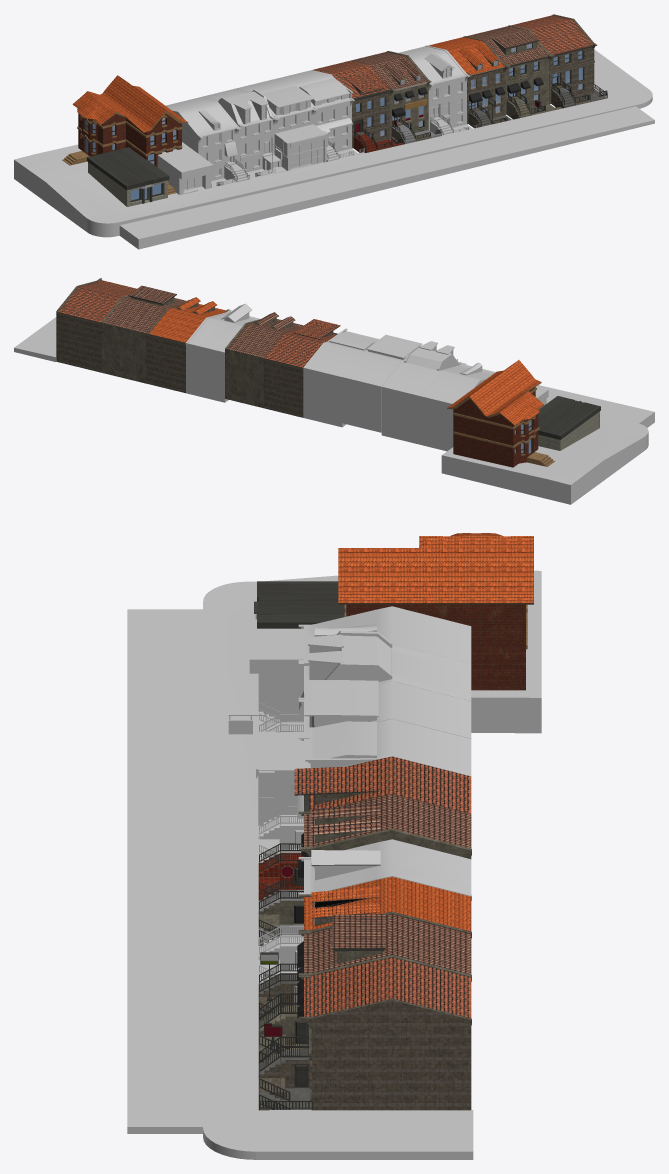
The model's file is Marcio_Augusta_James_Buildings.fbx.
3 renders of one model, top to bottom at view 1: azimuth 30°, elevation 25°; view 2: azimuth 150°, elevation 25°; view 3: azimuth 270°, elevation 25°, orthographic. The views are drawn at different scales.
Parts seen in each view (by area): view 1: SideWalk, VictorianHouse, Building07, Building06, Building08, Building09, Building03, Building02, Building10, Building05, Building04, Building01 (+2 smaller); view 2: SideWalk, VictorianHouse, Building06, Building09, Building07, Building02, Building08, Building01, Building03, Building05, Building04, Building10 (+1 smaller); view 3: SideWalk, Building07, VictorianHouse, Building08, Building06, Building03, Building01, Building02, Building05, Building04, Building09, Building10 (+2 smaller).
Part boxes in pixels (bbox=[...]): SideWalk: bbox=[14, 50, 654, 249]; VictorianHouse: bbox=[62, 75, 188, 194]; Building07: bbox=[511, 14, 607, 108]; Building06: bbox=[467, 25, 562, 119]; Building08: bbox=[235, 79, 328, 170]; Building09: bbox=[197, 88, 286, 179]; Building03: bbox=[351, 51, 441, 144]; Building02: bbox=[313, 60, 403, 152]; Building10: bbox=[166, 98, 248, 187]; Building05: bbox=[428, 36, 518, 127]; Building04: bbox=[398, 45, 479, 135]; Building01: bbox=[274, 70, 364, 161]; SideWalk: bbox=[14, 317, 654, 504]; VictorianHouse: bbox=[447, 360, 554, 467]; Building06: bbox=[101, 285, 189, 383]; Building09: bbox=[381, 341, 464, 444]; Building07: bbox=[56, 278, 136, 372]; Building02: bbox=[264, 319, 340, 417]; Building08: bbox=[342, 334, 422, 432]; Building01: bbox=[303, 328, 379, 427]; Building03: bbox=[225, 312, 303, 408]; Building05: bbox=[146, 297, 229, 393]; Building04: bbox=[185, 303, 260, 402]; Building10: bbox=[420, 362, 495, 451]; SideWalk: bbox=[127, 570, 541, 1159]; Building07: bbox=[258, 957, 471, 1110]; VictorianHouse: bbox=[338, 533, 533, 690]; Building08: bbox=[256, 679, 471, 825]; Building06: bbox=[258, 914, 471, 1063]; Building03: bbox=[258, 794, 471, 945]; Building01: bbox=[258, 719, 471, 862]; Building02: bbox=[258, 756, 471, 900]; Building05: bbox=[258, 876, 471, 1020]; Building04: bbox=[258, 839, 471, 983]; Building09: bbox=[228, 630, 471, 734]; Building10: bbox=[258, 606, 471, 732].
Size of the model in its own units: 12863 by 1753 by 4092.
